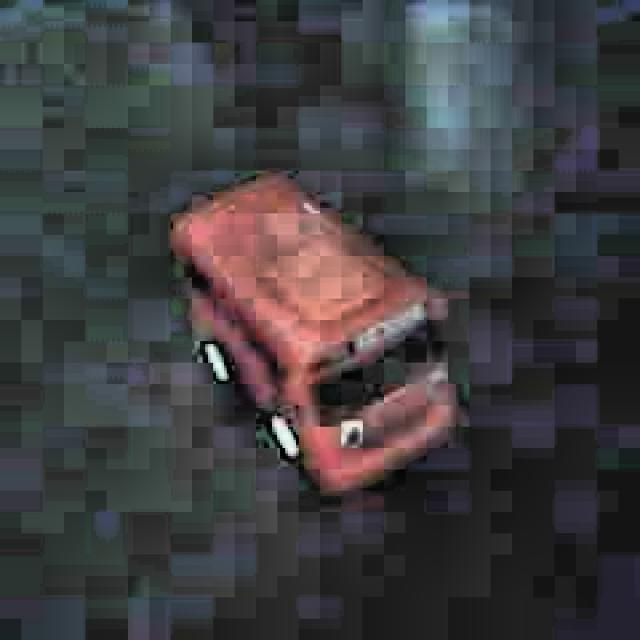bus: (157, 156, 475, 509)
